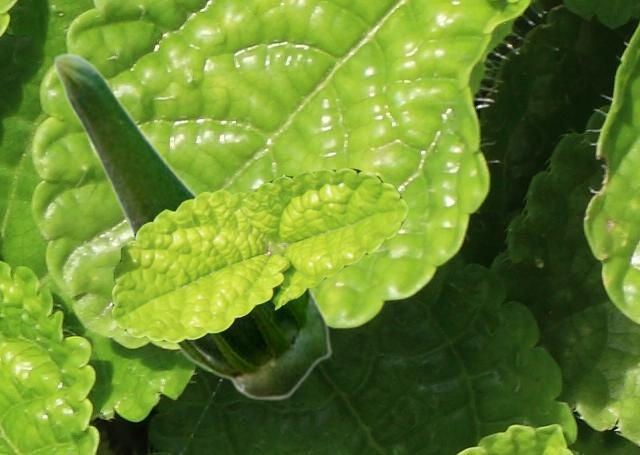okra: (52, 52, 331, 400)
